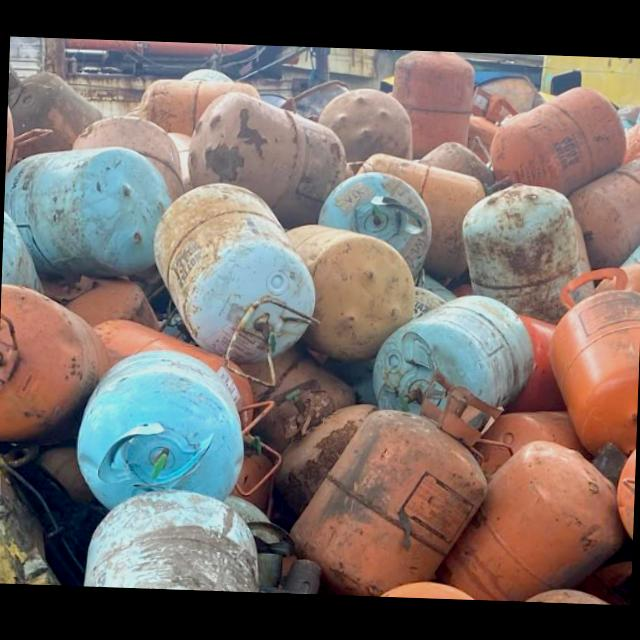Cylinders: (291, 370, 506, 596), (540, 272, 640, 452)
